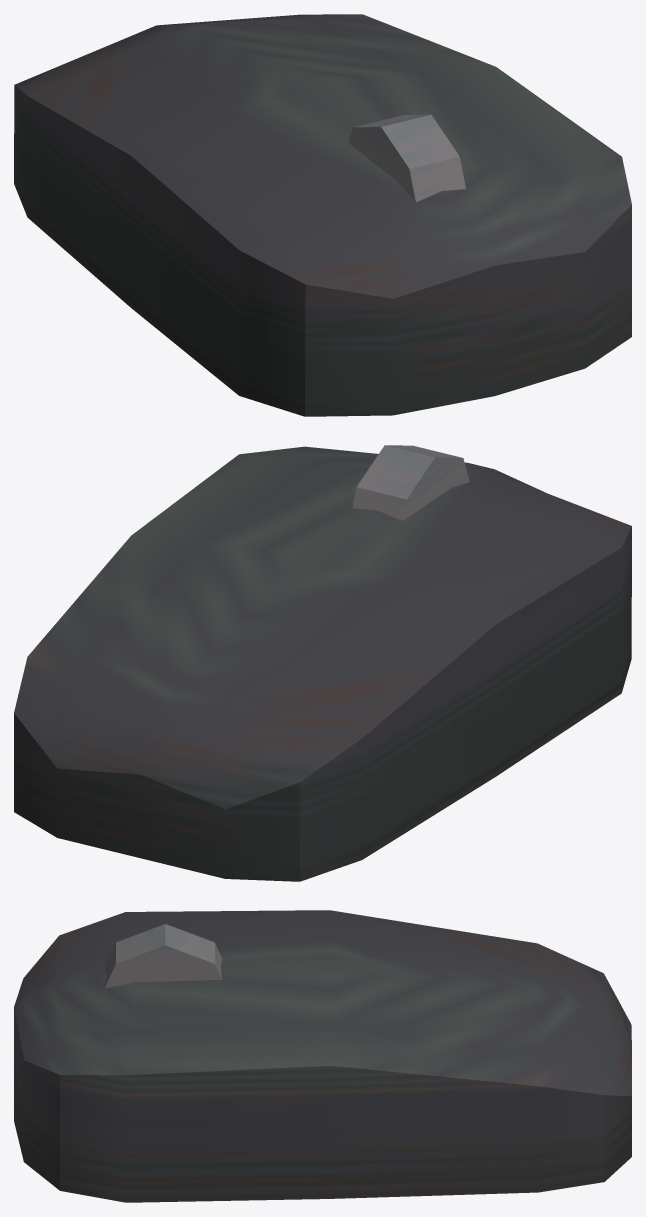
Rendered from 6edc4728-3d30-4284-b22f-057dfb326db2.glb.
3 renders of one model, top to bottom at view 1: azimuth 30°, elevation 25°; view 2: azimuth 150°, elevation 25°; view 3: azimuth 270°, elevation 25°, orthographic. The views are drawn at different scales.
Parts seen in each view (by area): view 1: CommandCenterLikeFurnitureMouse; view 2: CommandCenterLikeFurnitureMouse; view 3: CommandCenterLikeFurnitureMouse.
Part boxes in pixels (<box>): CommandCenterLikeFurnitureMouse: <box>14,14,631,416</box>; CommandCenterLikeFurnitureMouse: <box>14,445,631,881</box>; CommandCenterLikeFurnitureMouse: <box>14,910,631,1202</box>.
Size of what is drawn, in the model's own units: 0.1988 by 0.1054 by 0.3179.
1 material, 1 textured.
